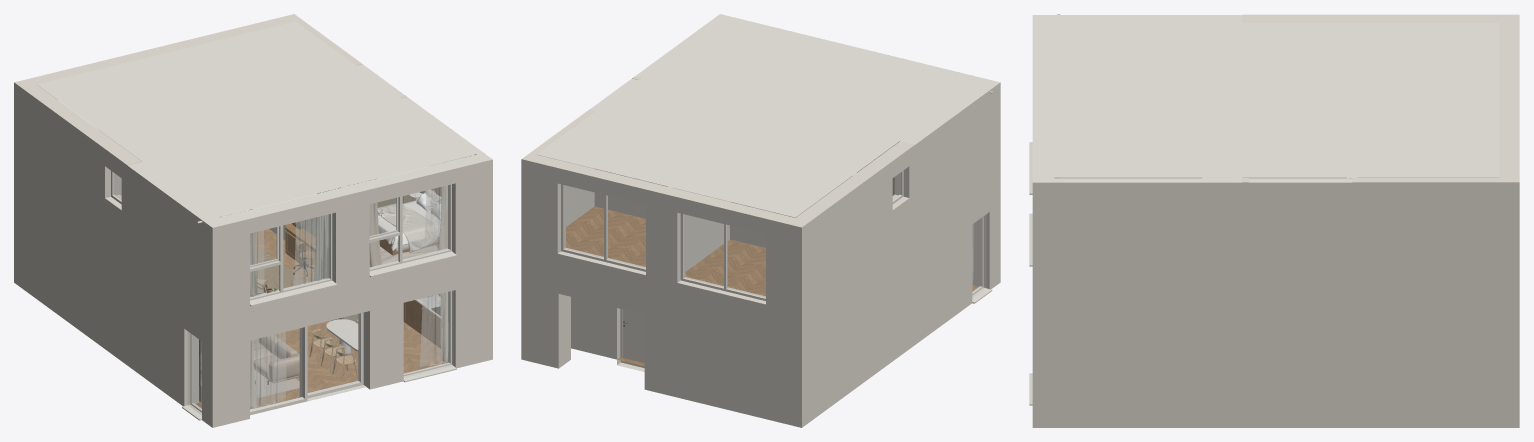
The model's file is wnetrze-BLIZNIAK-v11.glb.
3 views of the same model, side by side, from view 1: azimuth 30°, elevation 25°; view 2: azimuth 150°, elevation 25°; view 3: azimuth 270°, elevation 25° (orthographic). The views are drawn at different scales.
Visible parts, largest first — view 1: KOND_1__SUFIT, KOND_1__SCIANY, KOND_0__SCIANY, KOND_0__OKNA, KOND_1__OKNA, KOND_1__WYPOSAZENIE, KOND_0__WYPOSAZENIE, KOND_0__PODLOGA, KOND_1__PODLOGA, KOND_1__WYPOSAZENIE_DYWAN; view 2: KOND_1__SUFIT, KOND_0__SCIANY, KOND_1__SCIANY, KOND_1__OKNA, KOND_1__PODLOGA, KOND_0__OKNA; view 3: KOND_0__SCIANY, KOND_1__SUFIT, KOND_1__SCIANY.
Part boxes in pixels (box(x1,y1,x2,y2)): KOND_1__SUFIT: box(37, 21, 492, 227); KOND_1__SCIANY: box(14, 14, 492, 321); KOND_0__SCIANY: box(14, 176, 492, 427); KOND_0__OKNA: box(182, 291, 456, 420); KOND_1__OKNA: box(111, 171, 456, 306); KOND_1__WYPOSAZENIE: box(230, 155, 471, 297); KOND_0__WYPOSAZENIE: box(199, 292, 448, 409); KOND_0__PODLOGA: box(195, 320, 448, 408); KOND_1__PODLOGA: box(254, 229, 438, 282); KOND_1__WYPOSAZENIE_DYWAN: box(254, 249, 305, 294); KOND_1__SUFIT: box(537, 14, 999, 217); KOND_0__SCIANY: box(521, 176, 1000, 427); KOND_1__SCIANY: box(521, 76, 1000, 321); KOND_1__OKNA: box(561, 170, 903, 300); KOND_1__PODLOGA: box(566, 206, 765, 296); KOND_0__OKNA: box(972, 215, 992, 303); KOND_0__SCIANY: box(1032, 182, 1519, 427); KOND_1__SUFIT: box(1032, 15, 1499, 182); KOND_1__SCIANY: box(1032, 14, 1519, 297).
Bounding box in the file's own units: 8.26 × 5.74 × 10.07.
Materials: 175 (75 with a texture image).
